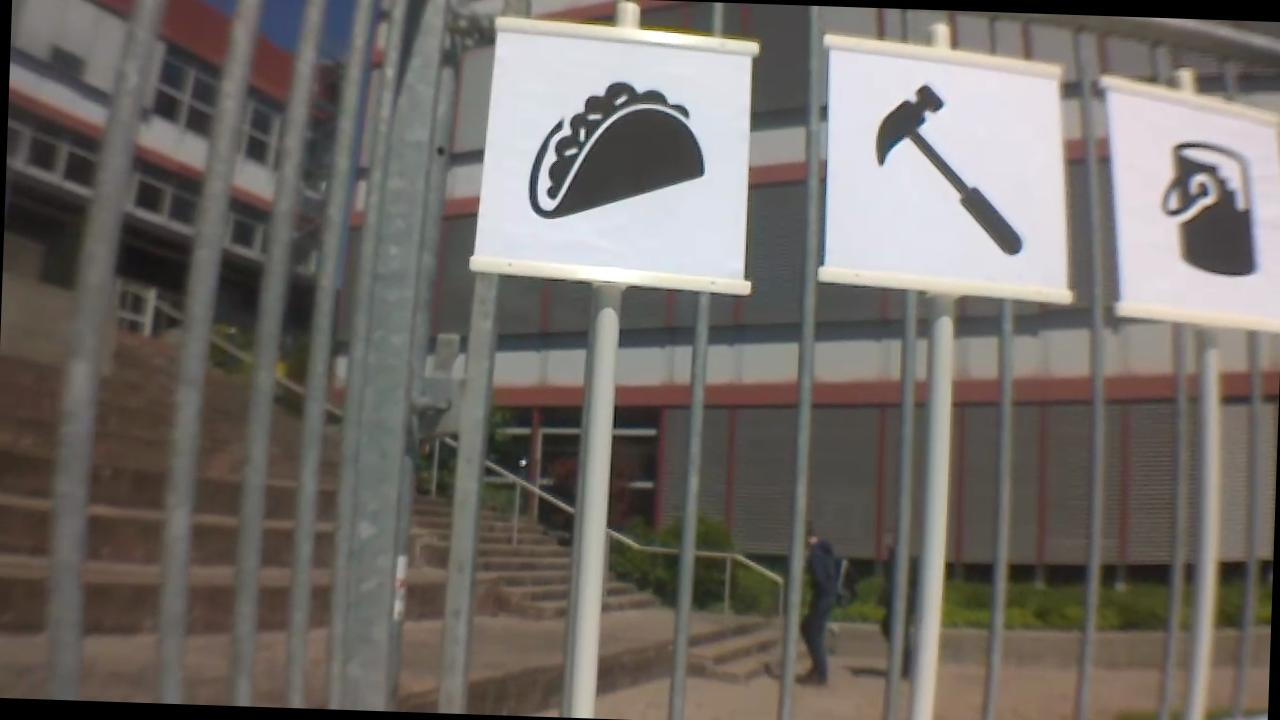bucket: (1149, 138, 1262, 287)
hammer: (865, 84, 1035, 255)
taco: (528, 84, 703, 227)
